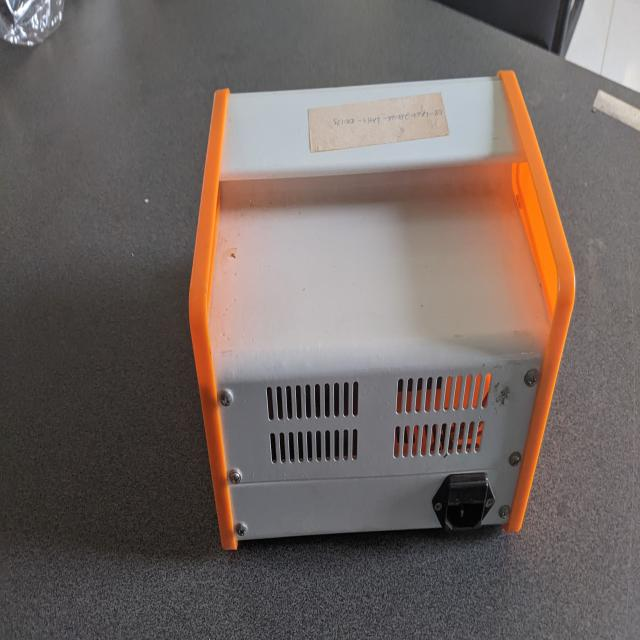AC and DC Power Supply 24V: (177, 65, 581, 554)
